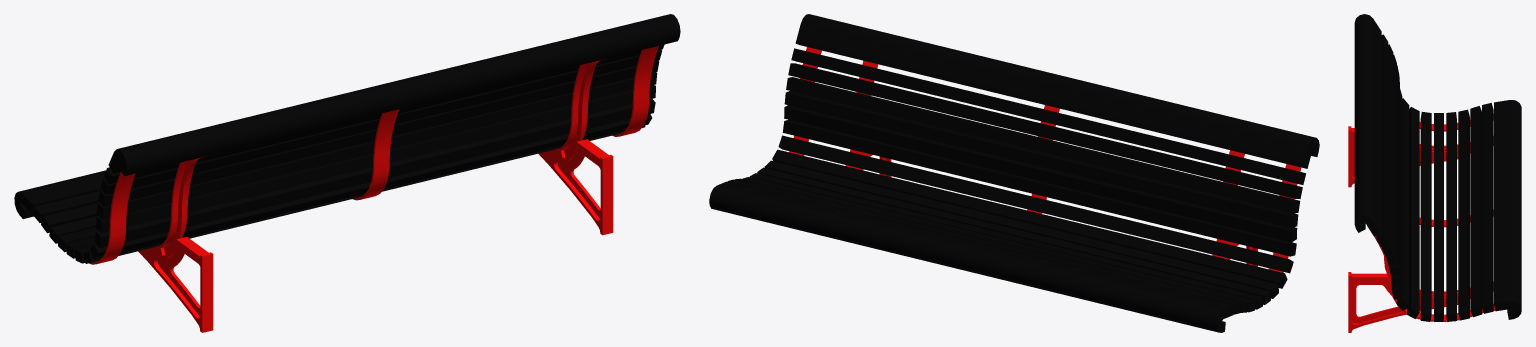
The picture shows the model from 3 angles, left to right: view 1: azimuth 30°, elevation 25°; view 2: azimuth 150°, elevation 25°; view 3: azimuth 270°, elevation 25°; orthographic projection. The views are drawn at different scales.
Visible parts, largest first — view 1: mesh1_mesh1-geometry, mesh5_mesh5-geometry, mesh11_mesh11-geometry, mesh9_mesh9-geometry, mesh7_mesh7-geometry, mesh3_mesh3-geometry; view 2: mesh1_mesh1-geometry, mesh5_mesh5-geometry, mesh3_mesh3-geometry, mesh9_mesh9-geometry, mesh7_mesh7-geometry; view 3: mesh1_mesh1-geometry, mesh3_mesh3-geometry, mesh5_mesh5-geometry, mesh11_mesh11-geometry, mesh9_mesh9-geometry, mesh7_mesh7-geometry.
Boxes of the visible parts, x1,y1,x2,y2 form: mesh1_mesh1-geometry: [33, 44, 664, 263]; mesh5_mesh5-geometry: [108, 14, 680, 176]; mesh11_mesh11-geometry: [138, 139, 613, 332]; mesh9_mesh9-geometry: [89, 46, 658, 264]; mesh7_mesh7-geometry: [151, 58, 607, 254]; mesh3_mesh3-geometry: [14, 170, 105, 218]; mesh1_mesh1-geometry: [727, 48, 1306, 314]; mesh5_mesh5-geometry: [795, 14, 1319, 168]; mesh3_mesh3-geometry: [709, 181, 1233, 332]; mesh9_mesh9-geometry: [789, 47, 1301, 272]; mesh7_mesh7-geometry: [845, 60, 1244, 258]; mesh1_mesh1-geometry: [1376, 34, 1493, 321]; mesh3_mesh3-geometry: [1494, 100, 1521, 319]; mesh5_mesh5-geometry: [1354, 14, 1381, 236]; mesh11_mesh11-geometry: [1348, 126, 1458, 332]; mesh9_mesh9-geometry: [1367, 113, 1495, 321]; mesh7_mesh7-geometry: [1384, 136, 1493, 299].
Bounding box in the file's own units: 0.8397 × 0.2786 × 0.3056.
